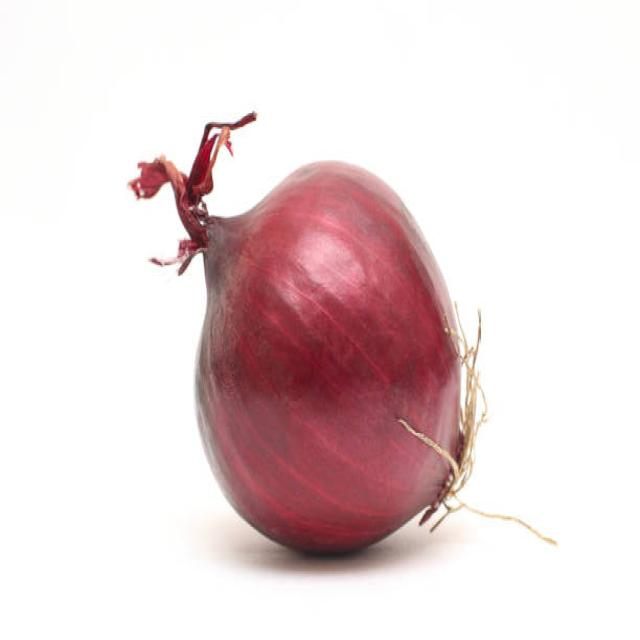onion: (189, 154, 487, 556)
